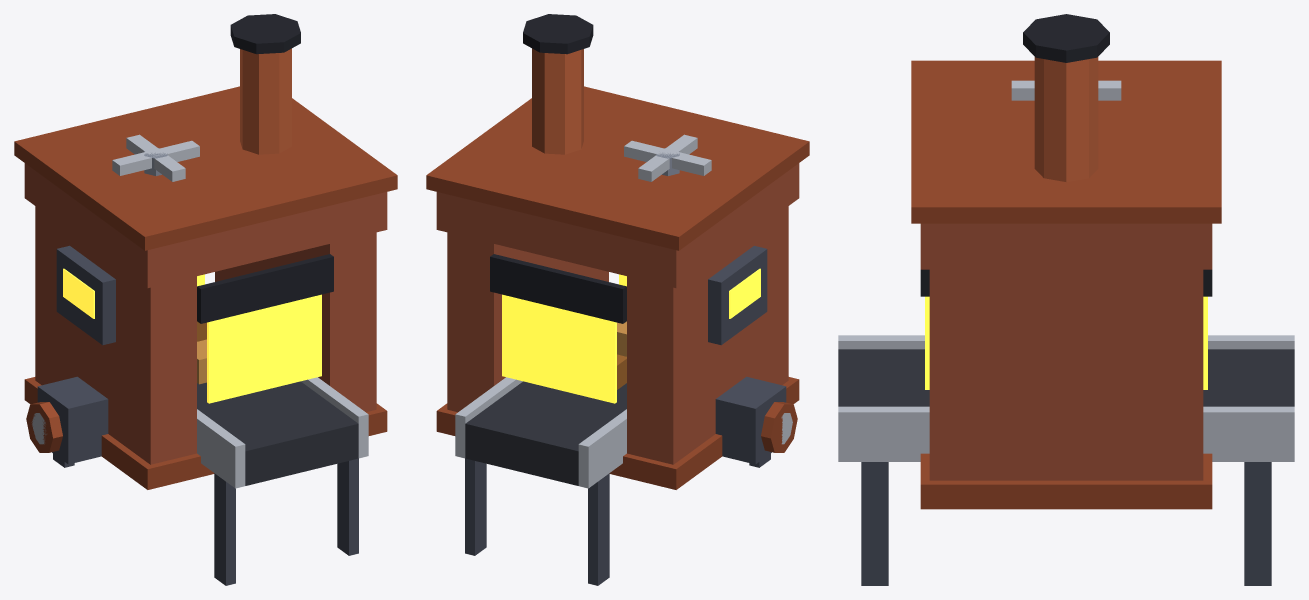
File: oven.glb
3 views of the same model, side by side, from view 1: azimuth 30°, elevation 25°; view 2: azimuth 150°, elevation 25°; view 3: azimuth 270°, elevation 25° (orthographic). The views are drawn at different scales.
Parts seen in each view (by area): view 1: oven, spin-up; view 2: oven, spin-up; view 3: oven, spin-up.
Boxes of the visible parts, bbox=[...] form: oven: bbox=[14, 14, 397, 585]; spin-up: bbox=[112, 134, 199, 181]; oven: bbox=[426, 14, 809, 585]; spin-up: bbox=[624, 134, 711, 181]; oven: bbox=[838, 14, 1294, 585]; spin-up: bbox=[1011, 80, 1121, 100].
Size of the model in its own units: 0.88 by 1.33 by 1.
2 materials, 2 textured.
